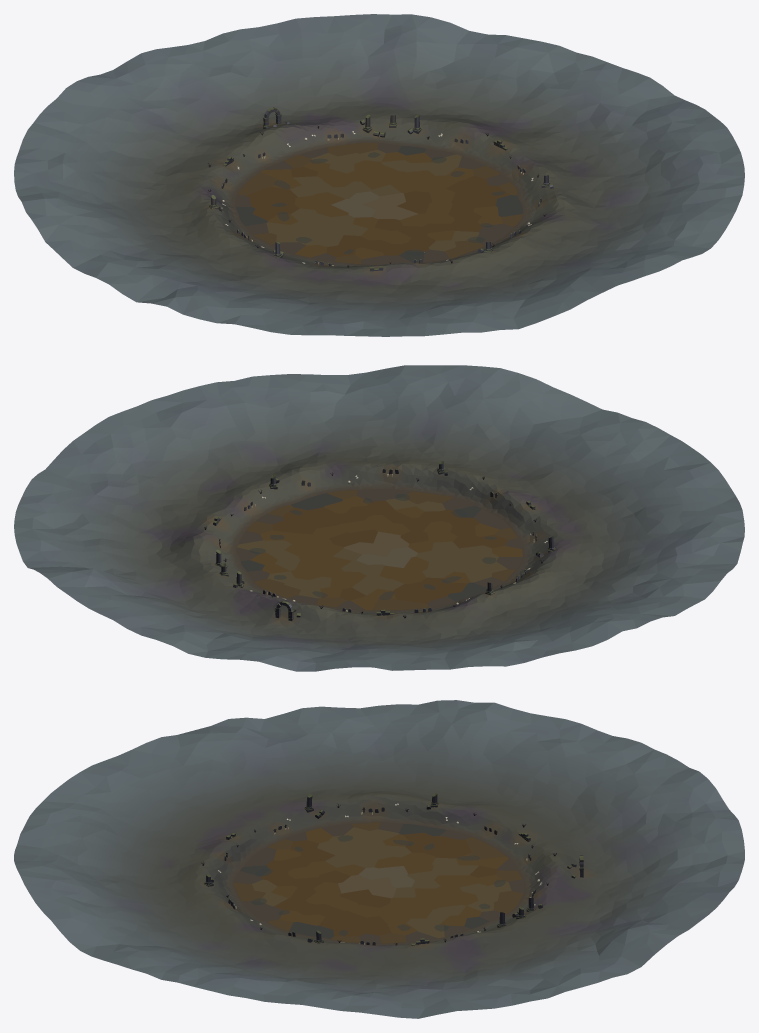
File: Skele_Arena.glb
3 views of the same model, one above another, from view 1: azimuth 30°, elevation 25°; view 2: azimuth 150°, elevation 25°; view 3: azimuth 270°, elevation 25° (orthographic).
Parts seen in each view (by area): view 1: Hills, Floor, Props; view 2: Hills, Floor, Props; view 3: Hills, Floor, Props.
Part boxes in pixels (x1=…): Hills: x1=14, y1=14, x2=744, y2=336; Floor: x1=235, y1=143, x2=523, y2=265; Props: x1=208, y1=107, x2=553, y2=271; Hills: x1=14, y1=365, x2=744, y2=671; Floor: x1=236, y1=489, x2=522, y2=610; Props: x1=204, y1=461, x2=555, y2=621; Hills: x1=14, y1=700, x2=744, y2=1018; Floor: x1=233, y1=822, x2=524, y2=943; Props: x1=201, y1=793, x2=583, y2=945.
Bounding box in the file's own units: 264 × 14.87 × 264.
